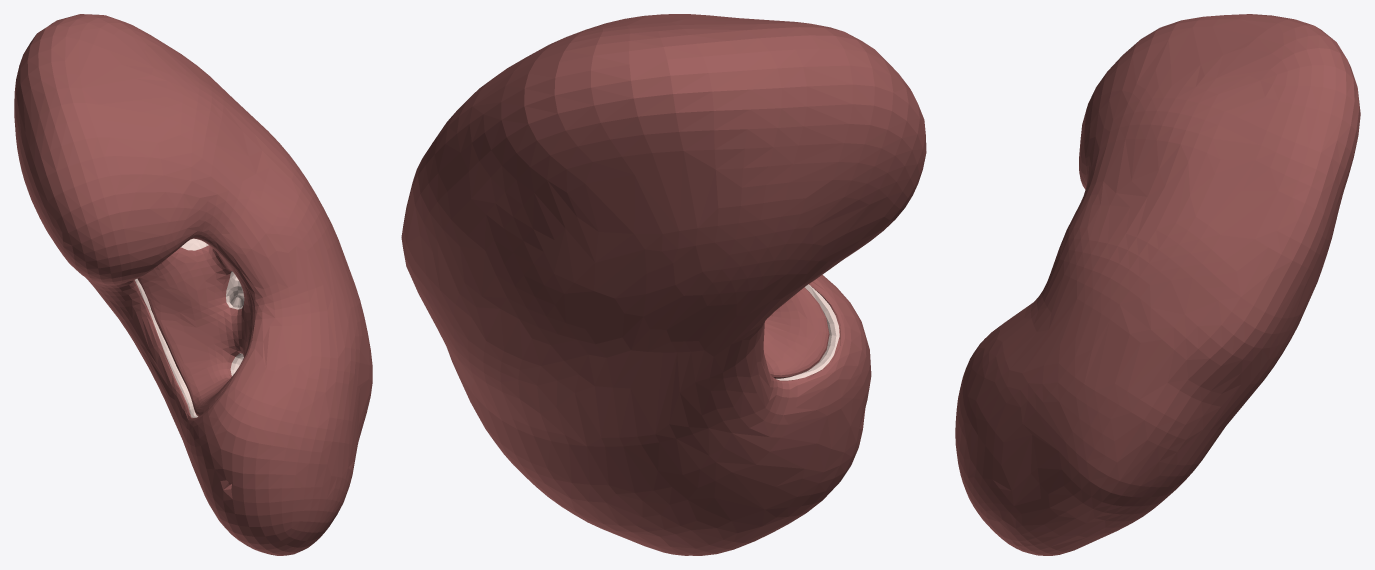
The model's file is kidney.glb.
3 renders of one model, left to right at view 1: azimuth 30°, elevation 25°; view 2: azimuth 150°, elevation 25°; view 3: azimuth 270°, elevation 25°, orthographic. The views are drawn at different scales.
Visible parts, largest first — view 1: VH_M_kidney_capsule_L, VH_M_hilum_of_kidney_L, VH_M_renal_column_L, VH_M_outer_cortex_of_kidney_L; view 2: VH_M_kidney_capsule_L, VH_M_hilum_of_kidney_L, VH_M_outer_cortex_of_kidney_L; view 3: VH_M_kidney_capsule_L.
Part boxes in pixels (x1,y1,x2,y2): VH_M_kidney_capsule_L: (14, 14, 372, 555); VH_M_hilum_of_kidney_L: (137, 238, 253, 416); VH_M_renal_column_L: (181, 238, 244, 375); VH_M_outer_cortex_of_kidney_L: (135, 278, 197, 417); VH_M_kidney_capsule_L: (401, 14, 926, 555); VH_M_hilum_of_kidney_L: (763, 287, 829, 378); VH_M_outer_cortex_of_kidney_L: (776, 284, 839, 380); VH_M_kidney_capsule_L: (955, 14, 1360, 555).
Size of the model in its own units: 0.0757 by 0.1065 by 0.0824.
